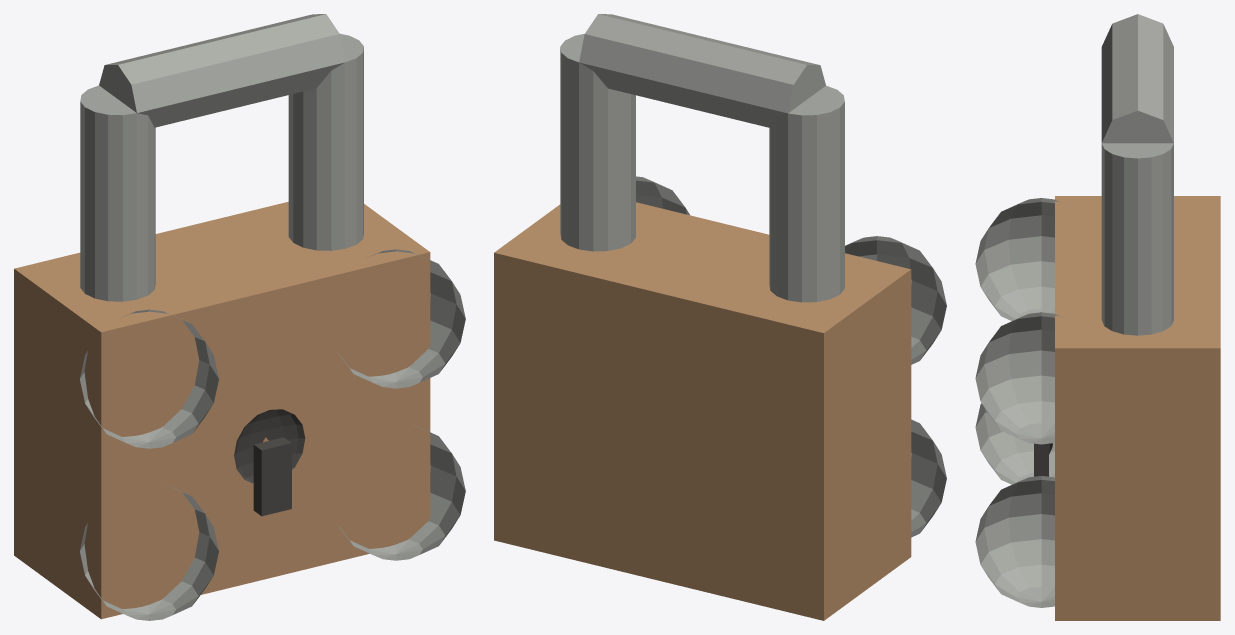
Rendered from signal-house-heavy-utility-padlock__209.glb.
3 renders of one model, left to right at view 1: azimuth 30°, elevation 25°; view 2: azimuth 150°, elevation 25°; view 3: azimuth 270°, elevation 25°, orthographic. The views are drawn at different scales.
Parts seen in each view (by area): view 1: accent, metal, dark; view 2: accent, metal; view 3: accent, metal, dark.
Part boxes in pixels (<box>): accent: <box>14,201,430,619</box>; metal: <box>80,14,465,620</box>; dark: <box>234,409,305,516</box>; accent: <box>494,202,911,620</box>; metal: <box>560,14,946,537</box>; accent: <box>1055,196,1220,620</box>; metal: <box>975,14,1173,607</box>; dark: <box>1034,443,1052,476</box>.
Bounding box in the file's own units: 0.134 × 0.177 × 0.0815.
